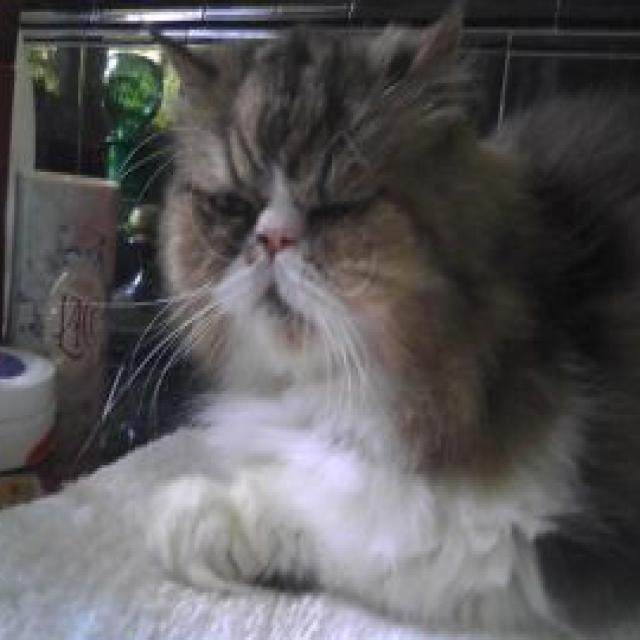Persian: (137, 0, 640, 631)
